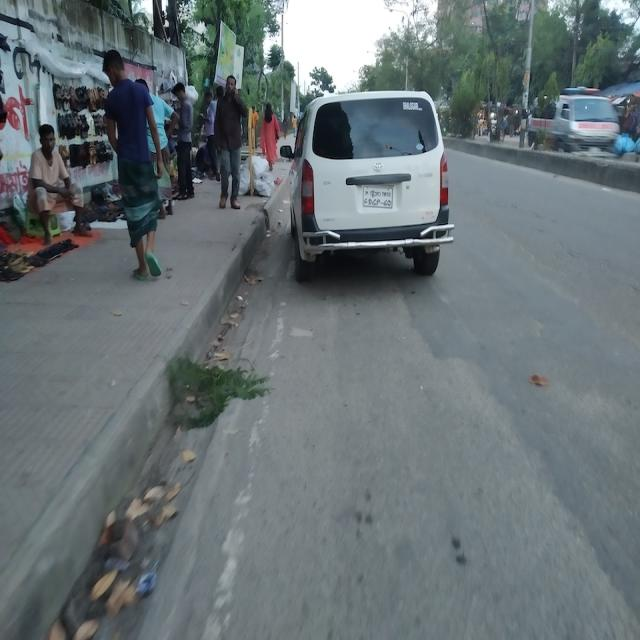numberplate: (362, 185, 394, 209)
